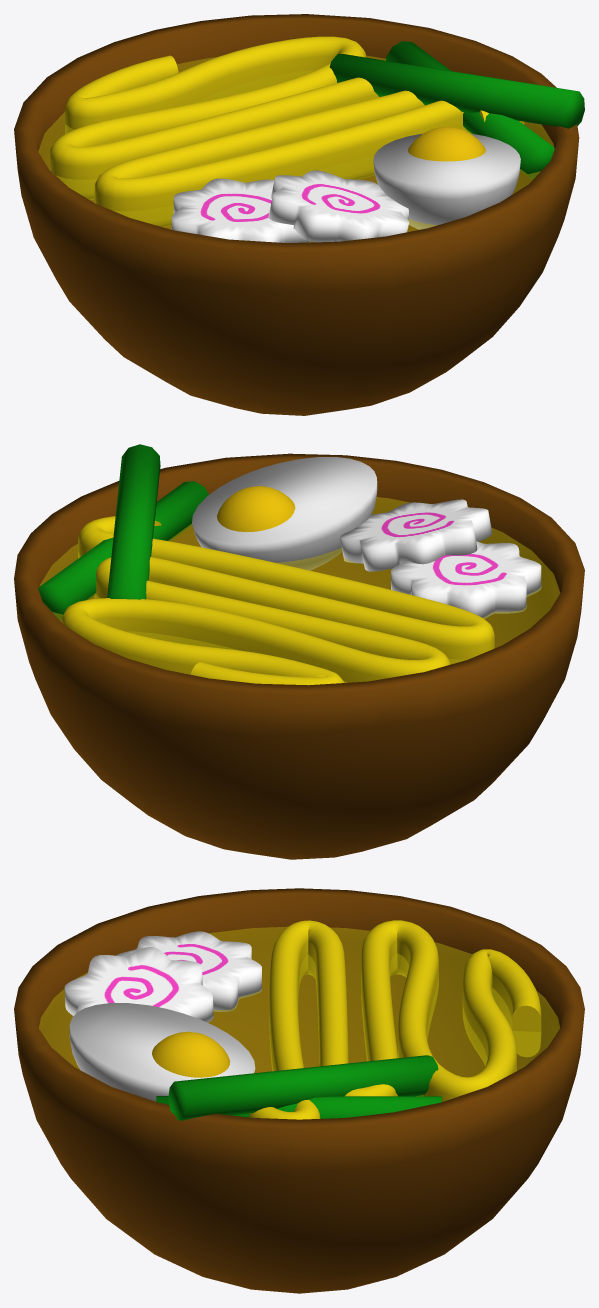
File: ramen.glb
The picture shows the model from 3 angles, top to bottom: view 1: azimuth 30°, elevation 25°; view 2: azimuth 150°, elevation 25°; view 3: azimuth 270°, elevation 25°; orthographic projection.
Parts seen in each view (by area): view 1: bowl, BézierCurve, Cylinder, Roundcube.001, Circle.001, Circle, broth; view 2: bowl, BézierCurve, Roundcube.001, Cylinder, Circle.001, Circle, broth; view 3: bowl, BézierCurve, broth, Roundcube.001, Cylinder, Circle.001, Circle.
Boxes of the visible parts, bbox=[...] form: bowl: bbox=[14, 14, 579, 415]; BézierCurve: bbox=[50, 36, 524, 227]; Cylinder: bbox=[329, 41, 584, 179]; Roundcube.001: bbox=[373, 127, 520, 229]; Circle.001: bbox=[268, 170, 409, 242]; Circle: bbox=[171, 178, 309, 242]; broth: bbox=[38, 55, 553, 242]; bowl: bbox=[14, 453, 584, 859]; BézierCurve: bbox=[61, 516, 494, 685]; Roundcube.001: bbox=[192, 457, 377, 570]; Cylinder: bbox=[38, 444, 208, 620]; Circle.001: bbox=[340, 499, 492, 571]; Circle: bbox=[391, 541, 541, 618]; broth: bbox=[40, 497, 559, 682]; bowl: bbox=[14, 888, 584, 1293]; BézierCurve: bbox=[249, 920, 541, 1119]; broth: bbox=[39, 926, 559, 1096]; Roundcube.001: bbox=[69, 1003, 255, 1101]; Cylinder: bbox=[156, 1055, 441, 1120]; Circle.001: bbox=[64, 947, 213, 1022]; Circle: bbox=[116, 931, 261, 1011].
Size of the model in its own units: 2 by 1.13 by 2.
7 materials, 1 textured.
